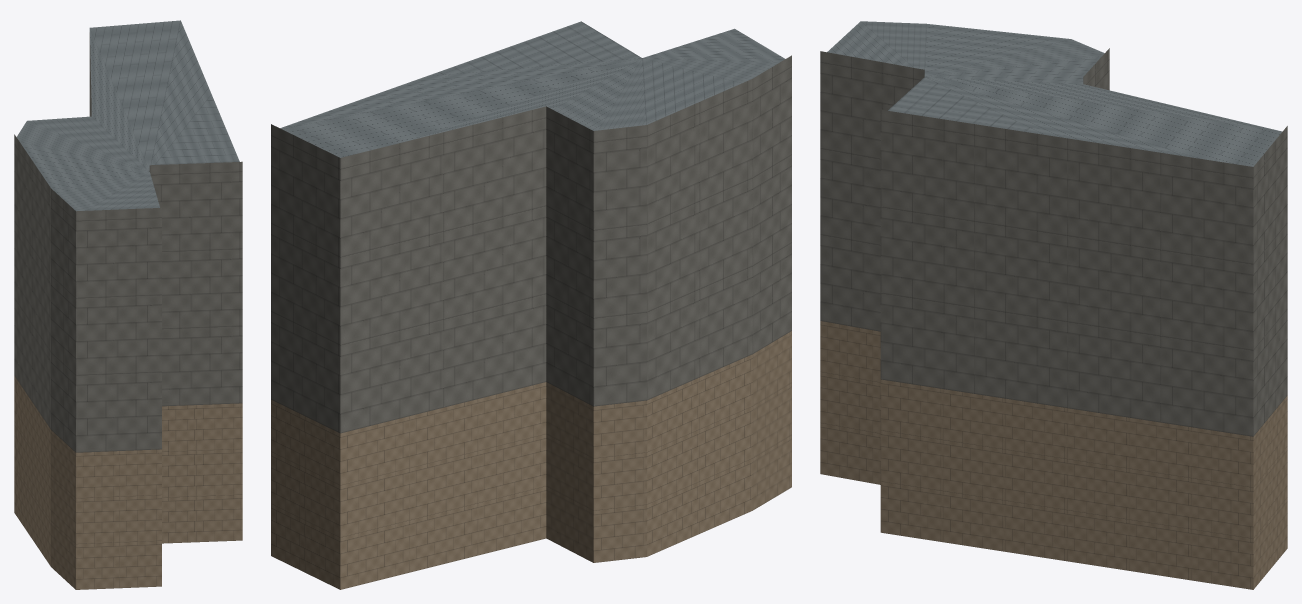
Rendered from bld_c-11_35_474.gltf.
3 renders of one model, left to right at view 1: azimuth 30°, elevation 25°; view 2: azimuth 150°, elevation 25°; view 3: azimuth 270°, elevation 25°, orthographic. The views are drawn at different scales.
Visible parts, largest first — view 1: bld_c-11_35_474; view 2: bld_c-11_35_474; view 3: bld_c-11_35_474.
Part boxes in pixels (x1,y1,x2,y2): bld_c-11_35_474: [14, 20, 242, 589]; bld_c-11_35_474: [271, 21, 791, 589]; bld_c-11_35_474: [820, 21, 1287, 589].
Size of the model in its own units: 10.92 by 14.08 by 14.09.
Materials: 4 (4 with a texture image).
